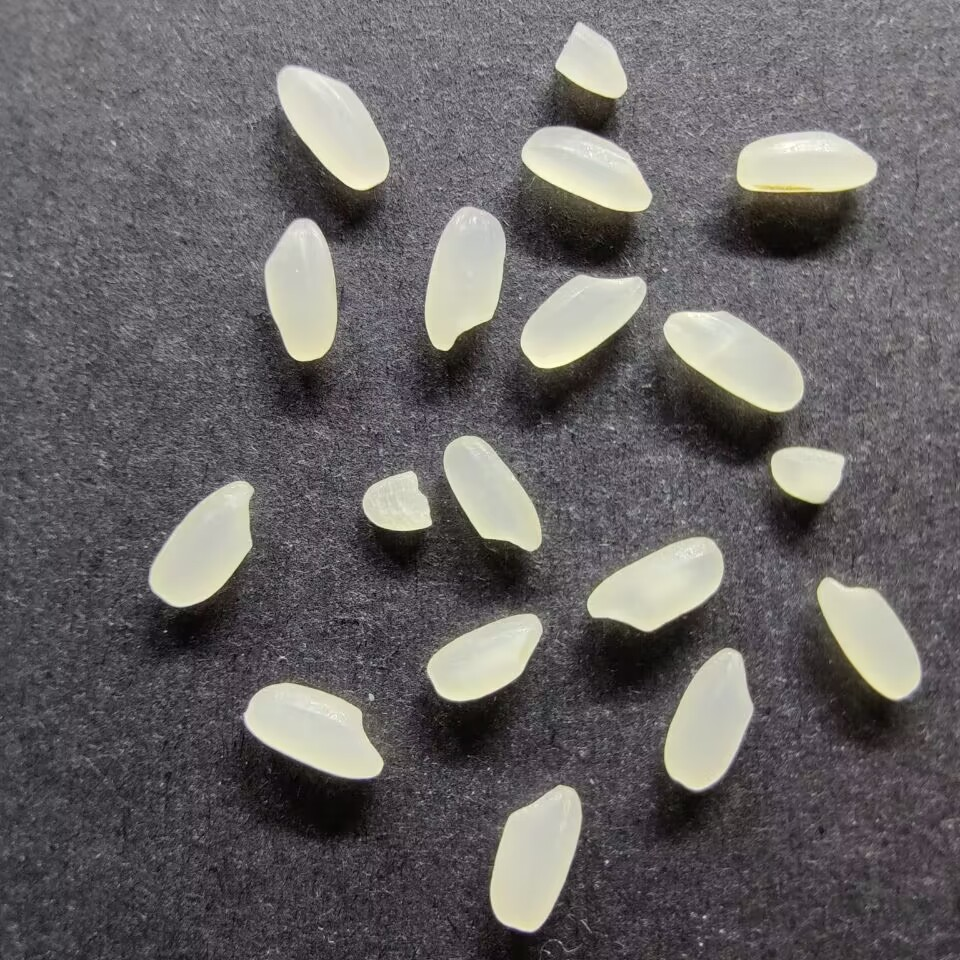broken: (553, 21, 627, 98), (769, 447, 845, 504), (361, 470, 430, 531)
rice: (275, 65, 390, 191), (662, 310, 804, 412), (488, 783, 582, 932), (243, 682, 384, 780), (147, 479, 253, 608), (585, 537, 725, 632), (662, 647, 753, 791), (816, 577, 922, 700), (519, 273, 646, 369), (423, 205, 505, 351), (441, 435, 542, 553), (520, 124, 653, 213), (263, 218, 337, 362), (426, 613, 542, 702), (735, 130, 878, 193)
